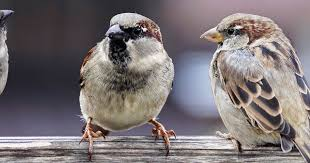hsparrow: (72, 7, 182, 163), (197, 10, 310, 160)
